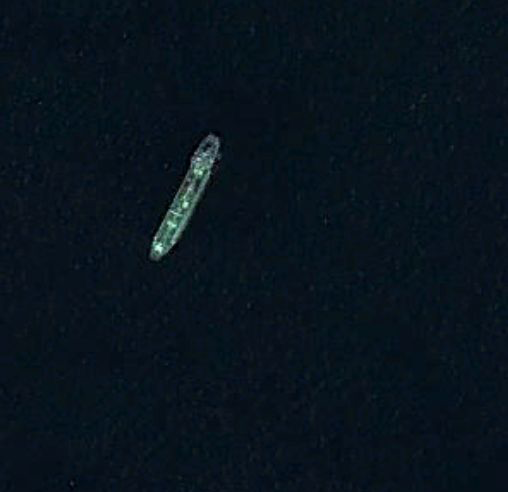boat: (150, 134, 222, 264)
